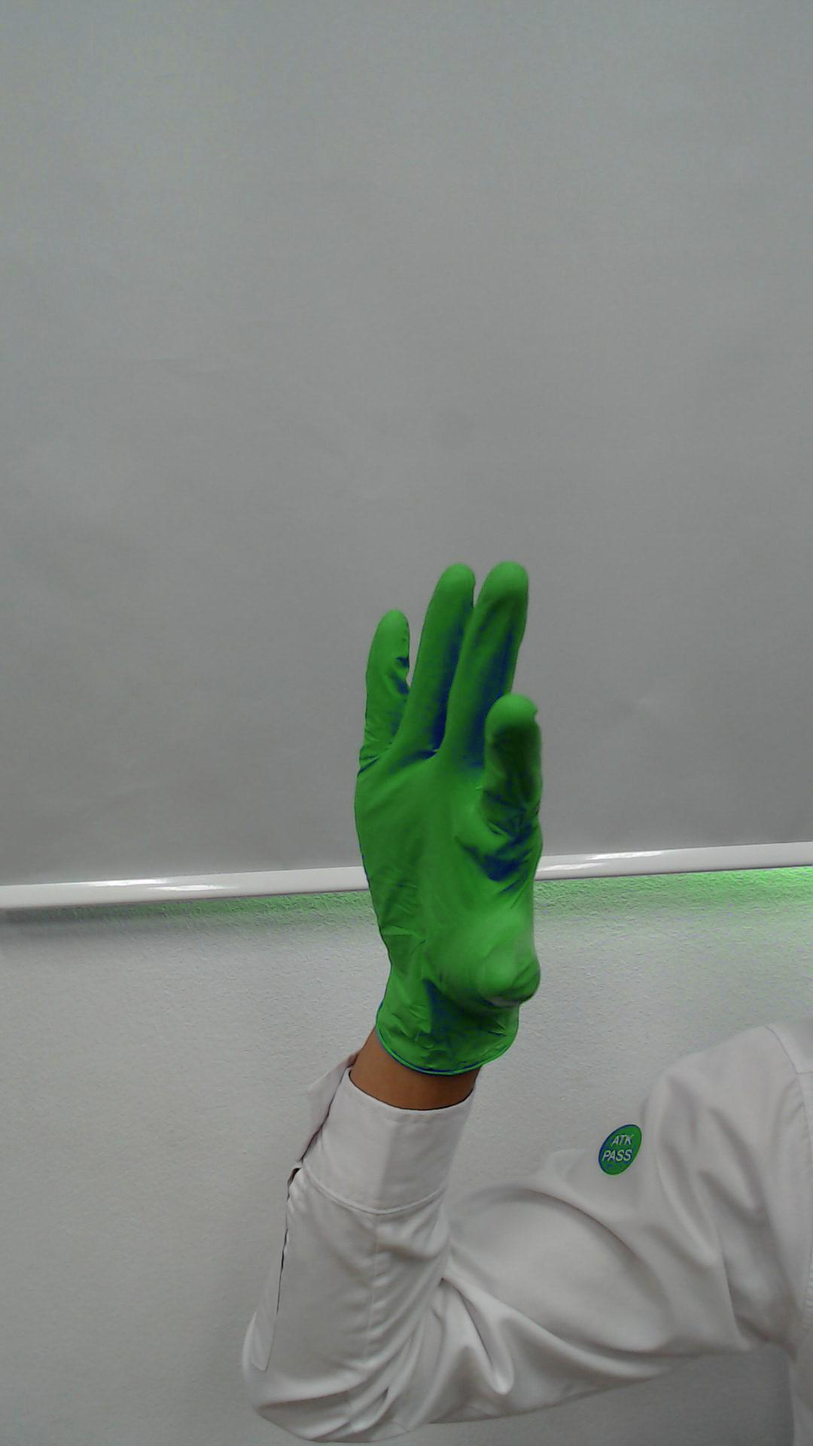gloves: (340, 546, 558, 1028)
